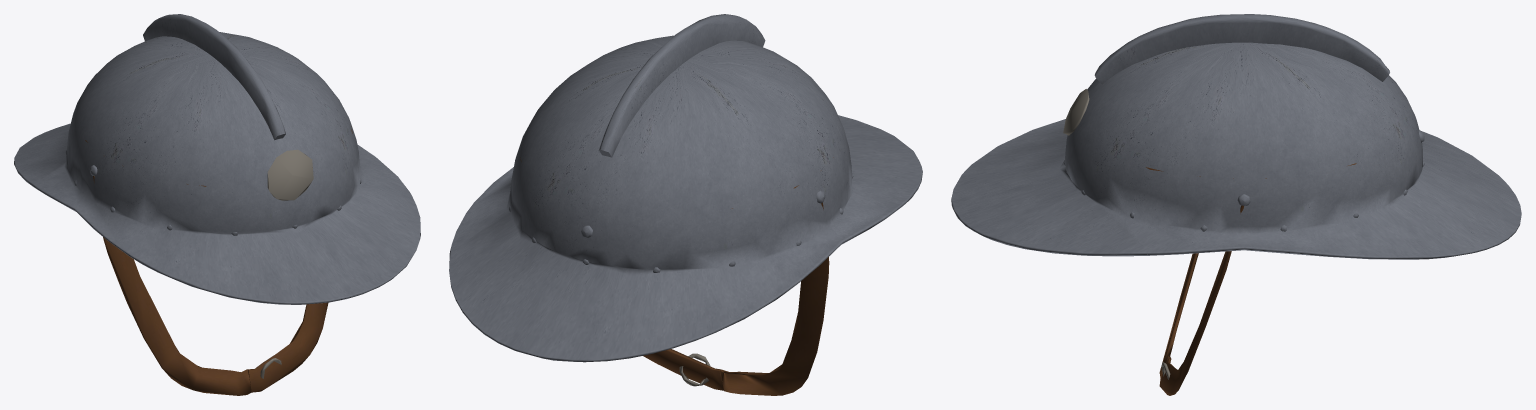
The model's file is helmet_crested.glb.
3 renders of one model, left to right at view 1: azimuth 30°, elevation 25°; view 2: azimuth 150°, elevation 25°; view 3: azimuth 270°, elevation 25°, orthographic. The views are drawn at different scales.
Visible parts, largest first — view 1: helmet_crested_paint, helmet_crested_liner, helmet_crested_metal; view 2: helmet_crested_paint, helmet_crested_liner; view 3: helmet_crested_paint, helmet_crested_liner, helmet_crested_metal.
Part boxes in pixels (x1=…): helmet_crested_paint: x1=14, y1=14, x2=420, y2=304; helmet_crested_liner: x1=85, y1=126, x2=352, y2=395; helmet_crested_metal: x1=260, y1=149, x2=313, y2=378; helmet_crested_paint: x1=449, y1=14, x2=922, y2=362; helmet_crested_liner: x1=520, y1=157, x2=833, y2=395; helmet_crested_paint: x1=951, y1=14, x2=1521, y2=259; helmet_crested_liner: x1=1146, y1=163, x2=1356, y2=395; helmet_crested_metal: x1=1063, y1=89, x2=1170, y2=379.
Bounding box in the file's own units: 0.2286 × 0.2586 × 0.3646.
4 materials, 2 textured.
